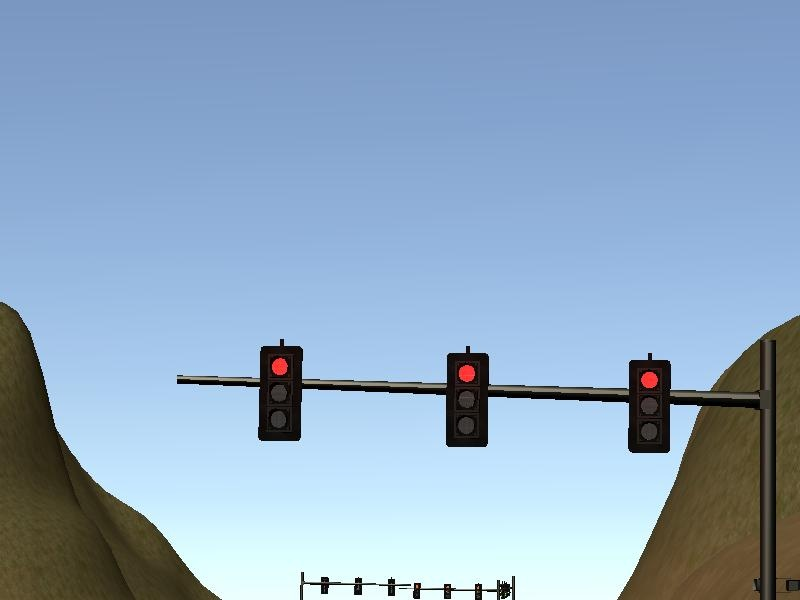red: (257, 348, 304, 440), (446, 352, 489, 449), (627, 360, 671, 453), (443, 583, 452, 600), (414, 582, 421, 600), (475, 584, 482, 600)
